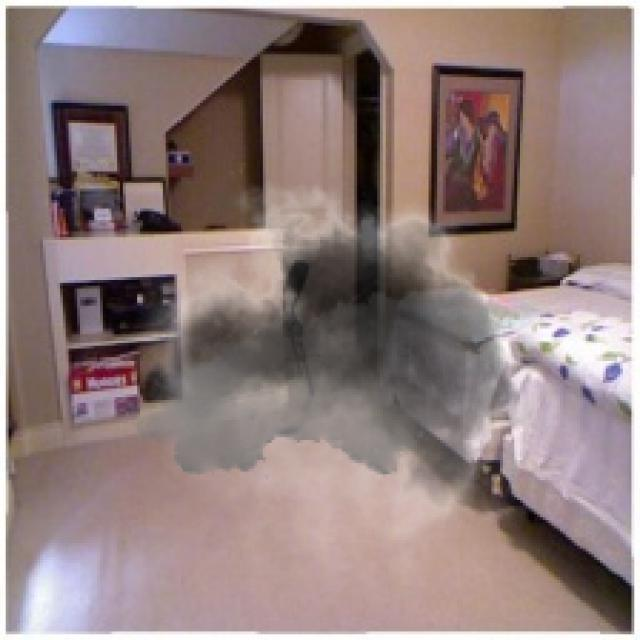Smoke: (132, 162, 557, 588)
